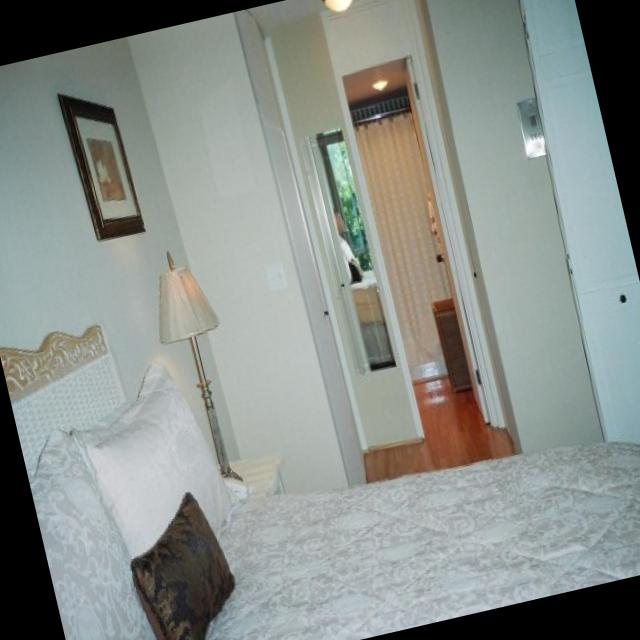basket crop: (437, 297, 476, 392)
bed frame: (2, 328, 640, 640)
ceiling beam: (250, 0, 369, 35), (345, 53, 405, 100)
curtain crop: (356, 107, 459, 363)
cushion occluded: (134, 493, 235, 640)
door bars: (522, 0, 640, 439)
floor -X: (351, 354, 528, 508)
lamp crop: (161, 252, 241, 479)
mirror crop: (320, 131, 395, 367)
night table: (221, 451, 286, 496)
picture crop: (60, 96, 144, 240)
pillow occluded: (78, 356, 238, 555)
wall clock: (0, 41, 244, 640), (129, 14, 352, 533), (265, 0, 508, 452), (414, 0, 601, 455), (235, 11, 366, 496)
